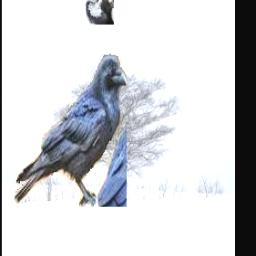Crow: (12, 55, 128, 208)
Woodpecker: (87, 0, 115, 25)
